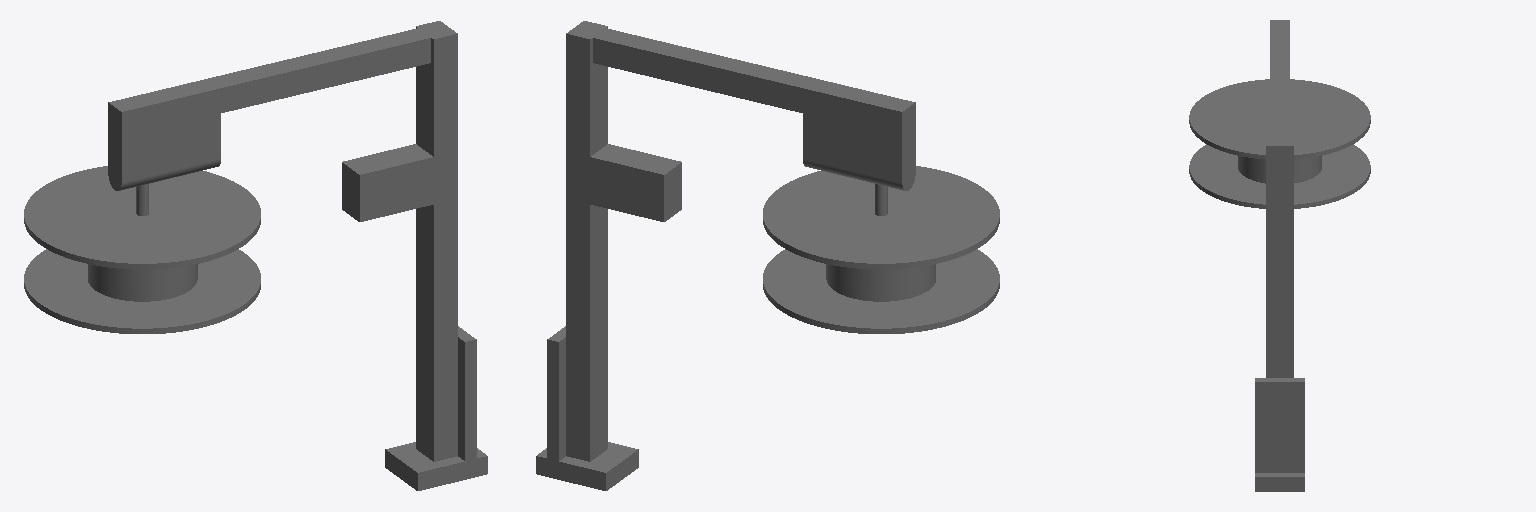
robot.urdf — kr6_r900_workspace:
<?xml version="1.0" ?>
<!-- =================================================================================== -->
<!-- |    This document was autogenerated by xacro from kr6_r900_workspace.xacro       | -->
<!-- |    EDITING THIS FILE BY HAND IS NOT RECOMMENDED                                 | -->
<!-- =================================================================================== -->
<robot name="kr6_r900_workspace" xmlns:xacro="http://wiki.ros.org/xacro">
  <!-- colours based on RAL values given in "FAQ - Colours of robot and robot
       controller", version "KUKA.Tifs | 2010-01-21 |YM| DefaultColorsRobotAndController.doc",
       downloaded 2015-07-18 from
       http://www.kuka.be/main/cservice/faqs/hardware/DefaultColorsRobotAndController.pdf

       all RAL colours converted using http://www.visual-graphics.de/en/customer-care/ral-colours
  -->
  <link name="robot_base_link">
    <visual>
      <origin rpy="0 0 0" xyz="0 0 0"/>
      <geometry>
        <mesh filename="../../kuka_kr6_support/meshes/kr6_agilus/visual/base_link.dae"/>
      </geometry>
      <material name="">
        <color rgba="0.505882352941 0.470588235294 0.388235294118 1.0"/>
      </material>
    </visual>
    <collision>
      <origin rpy="0 0 0" xyz="0 0 0"/>
      <geometry>
        <mesh filename="../../kuka_kr6_support/meshes/kr6_agilus/collision/base_link.stl"/>
      </geometry>
    </collision>
  </link>
  <link name="robot_link_1">
    <visual>
      <origin rpy="0 0 0" xyz="0 0 0"/>
      <geometry>
        <mesh filename="../../kuka_kr6_support/meshes/kr6_agilus/visual/link_1.dae"/>
      </geometry>
      <material name="">
        <color rgba="0.964705882353 0.470588235294 0.156862745098 1.0"/>
      </material>
    </visual>
    <collision>
      <origin rpy="0 0 0" xyz="0 0 0"/>
      <geometry>
        <mesh filename="../../kuka_kr6_support/meshes/kr6_agilus/collision/link_1.stl"/>
      </geometry>
    </collision>
  </link>
  <link name="robot_link_2">
    <visual>
      <origin rpy="0 0 0" xyz="0 0 0"/>
      <geometry>
        <mesh filename="../../kuka_kr6_support/meshes/kr6r900sixx/visual/link_2.dae"/>
      </geometry>
      <material name="">
        <color rgba="0.964705882353 0.470588235294 0.156862745098 1.0"/>
      </material>
    </visual>
    <collision>
      <origin rpy="0 0 0" xyz="0 0 0"/>
      <geometry>
        <mesh filename="../../kuka_kr6_support/meshes/kr6r900sixx/collision/link_2.stl"/>
      </geometry>
    </collision>
  </link>
  <link name="robot_link_3">
    <visual>
      <origin rpy="0 0 0" xyz="0 0 0"/>
      <geometry>
        <mesh filename="../../kuka_kr6_support/meshes/kr6_agilus/visual/link_3.dae"/>
      </geometry>
      <material name="">
        <color rgba="0.964705882353 0.470588235294 0.156862745098 1.0"/>
      </material>
    </visual>
    <collision>
      <origin rpy="0 0 0" xyz="0 0 0"/>
      <geometry>
        <mesh filename="../../kuka_kr6_support/meshes/kr6_agilus/collision/link_3.stl"/>
      </geometry>
    </collision>
  </link>
  <link name="robot_link_4">
    <visual>
      <origin rpy="0 0 0" xyz="0 0 0"/>
      <geometry>
        <mesh filename="../../kuka_kr6_support/meshes/kr6r900sixx/visual/link_4.dae"/>
      </geometry>
      <material name="">
        <color rgba="0.964705882353 0.470588235294 0.156862745098 1.0"/>
      </material>
    </visual>
    <collision>
      <origin rpy="0 0 0" xyz="0 0 0"/>
      <geometry>
        <mesh filename="../../kuka_kr6_support/meshes/kr6r900sixx/collision/link_4.stl"/>
      </geometry>
    </collision>
  </link>
  <link name="robot_link_5">
    <visual>
      <origin rpy="0 0 0" xyz="0 0 0"/>
      <geometry>
        <mesh filename="../../kuka_kr6_support/meshes/kr6_agilus/visual/link_5.dae"/>
      </geometry>
      <material name="">
        <color rgba="0.964705882353 0.470588235294 0.156862745098 1.0"/>
      </material>
    </visual>
    <collision>
      <origin rpy="0 0 0" xyz="0 0 0"/>
      <geometry>
        <mesh filename="../../kuka_kr6_support/meshes/kr6_agilus/collision/link_5.stl"/>
      </geometry>
    </collision>
  </link>
  <link name="robot_link_6">
    <visual>
      <origin rpy="0 0 0" xyz="0 0 0"/>
      <geometry>
        <mesh filename="../../kuka_kr6_support/meshes/kr6_agilus/visual/link_6.dae"/>
      </geometry>
      <material name="">
        <color rgba="0.505882352941 0.470588235294 0.388235294118 1.0"/>
      </material>
    </visual>
    <collision>
      <origin rpy="0 0 0" xyz="0 0 0"/>
      <geometry>
        <mesh filename="../../kuka_kr6_support/meshes/kr6_agilus/collision/link_6.stl"/>
      </geometry>
    </collision>
  </link>
  <!-- This frame corresponds to the $FLANGE coordinate system in KUKA KRC controllers. -->
  <link name="robot_tool0"/>
  <joint name="robot_joint_a1" type="revolute">
    <origin rpy="0 0 0" xyz="0 0 0.400"/>
    <parent link="robot_base_link"/>
    <child link="robot_link_1"/>
    <axis xyz="0 0 -1"/>
    <limit effort="0" lower="-2.96705972839" upper="2.96705972839" velocity="6.28318530718"/>
  </joint>
  <joint name="robot_joint_a2" type="revolute">
    <origin rpy="0 0 0" xyz="0.025 0 0"/>
    <parent link="robot_link_1"/>
    <child link="robot_link_2"/>
    <axis xyz="0 1 0"/>
    <limit effort="0" lower="-3.31612557879" upper="0.785398163397" velocity="5.23598775598"/>
  </joint>
  <joint name="robot_joint_a3" type="revolute">
    <origin rpy="0 0 0" xyz="0.455 0 0"/>
    <parent link="robot_link_2"/>
    <child link="robot_link_3"/>
    <axis xyz="0 1 0"/>
    <limit effort="0" lower="-2.09439510239" upper="2.72271363311" velocity="6.28318530718"/>
  </joint>
  <joint name="robot_joint_a4" type="revolute">
    <origin rpy="0 0 0" xyz="0 0 0.035"/>
    <parent link="robot_link_3"/>
    <child link="robot_link_4"/>
    <axis xyz="-1 0 0"/>
    <limit effort="0" lower="-3.22885911619" upper="3.22885911619" velocity="6.6497044501"/>
  </joint>
  <joint name="robot_joint_a5" type="revolute">
    <origin rpy="0 0 0" xyz="0.420 0 0"/>
    <parent link="robot_link_4"/>
    <child link="robot_link_5"/>
    <axis xyz="0 1 0"/>
    <limit effort="0" lower="-2.09439510239" upper="2.09439510239" velocity="6.77187749774"/>
  </joint>
  <joint name="robot_joint_a6" type="revolute">
    <origin rpy="0 0 0" xyz="0.080 0 0"/>
    <parent link="robot_link_5"/>
    <child link="robot_link_6"/>
    <axis xyz="-1 0 0"/>
    <limit effort="0" lower="-6.10865238198" upper="6.10865238198" velocity="10.7337748998"/>
  </joint>
  <joint name="robot_joint_a6-tool0" type="fixed">
    <parent link="robot_link_6"/>
    <child link="robot_tool0"/>
    <origin rpy="0 1.57079632679 0" xyz="0 0 0"/>
  </joint>
  <!-- ROS base_link to KUKA $ROBROOT coordinate system transform -->
  <link name="robot_base"/>
  <joint name="robot_base_link-base" type="fixed">
    <origin rpy="0 0 0" xyz="0 0 0"/>
    <parent link="robot_base_link"/>
    <child link="robot_base"/>
  </joint>
  <!-- link list -->
  <link name="eef_base_link">
    <visual>
      <origin rpy="0 0 0" xyz="8.8e-05 0.000769 -0.002121"/>
      <geometry>
        <mesh filename="../../asw_end_effector/meshes/visual/asw_hotend_end_effector.stl" scale=".001 .001 .001"/>
      </geometry>
      <material name="grey">
        <color rgba="0.5 0.5 0.5 1.0"/>
      </material>
    </visual>
    <collision>
      <origin rpy="0 0 0" xyz="8.8e-05 0.000769 -0.002121"/>
      <geometry>
        <mesh filename="../../asw_end_effector/meshes/collision/asw_hotend_end_effector_shrinked_tip-4mm.stl" scale=".001 .001 .001"/>
      </geometry>
      <material name="red">
        <color rgba="1 0 0 1"/>
      </material>
    </collision>
  </link>
  <link name="eef_tcp_frame"/>
  <!-- end of link list -->
  <!-- joint list -->
  <joint name="eef_base_to_tcp" type="fixed">
    <origin rpy="0.0 1.57079632679 0.0" xyz="0.150539 0.001052 0.119157"/>
    <parent link="eef_base_link"/>
    <child link="eef_tcp_frame"/>
  </joint>
  <!-- end of joint list -->
  <!-- material_feeder_mount_point is Base Link, inherit from host robot -->
  <link name="material_feeder_mount_point"/>
  <link name="material_feeder_material_feeder">
    <visual>
      <geometry>
        <mesh filename="../../asw_material_feeder/meshes/visual/asw_material_feeder_visual_model.stl" scale=".001 .001 .001"/>
      </geometry>
      <material name="grey">
        <color rgba="0.5 0.5 0.5 1.0"/>
      </material>
    </visual>
    <collision>
      <geometry>
        <mesh filename="../../asw_material_feeder/meshes/collision/asw_material_feeder_collision_model.stl" scale=".001 .001 .001"/>
      </geometry>
      <material name="red">
        <color rgba="1 0 0 1"/>
      </material>
    </collision>
  </link>
  <joint name="mount_point_to_material_feeder" type="fixed">
    <parent link="material_feeder_mount_point"/>
    <child link="material_feeder_material_feeder"/>
    <origin rpy="0 0 0" xyz="0 0 0"/>
  </joint>
  <link name="workspace_base_link"/>
  <link name="workspace_objects">
    <visual>
      <geometry>
        <mesh filename="../../framefab_kr6_r900_support/meshes/visual/MIT_3-412_workspace_full.stl"/>
      </geometry>
      <material name="grey">
        <color rgba="0.5 0.5 0.5 1.0"/>
      </material>
    </visual>
    <collision>
      <geometry>
        <mesh filename="../../framefab_kr6_r900_support/meshes/collision/MIT_3-412_workspace_simplified.stl"/>
      </geometry>
    </collision>
  </link>
  <joint name="workspace_baselink_to_objects" type="fixed">
    <parent link="workspace_base_link"/>
    <child link="workspace_objects"/>
    <origin rpy="0 0 0" xyz="0 0 0"/>
  </joint>
  <link name="base_link"/>
  <!-- Attach the end effector to the end of the robot arm (tool0) -->
  <joint name="ee_to_robot" type="fixed">
    <parent link="robot_tool0"/>
    <child link="eef_base_link"/>
    <origin rpy="0 0 0" xyz="0 0 0"/>
  </joint>
  <!-- Attach the material feeder to the link4 mount point of the robot arm -->
  <joint name="link_3_to_link_3_mount_point" type="fixed">
    <parent link="robot_link_3"/>
    <child link="material_feeder_mount_point"/>
    <origin rpy="0 0 0" xyz="0.06762 0.0 0.0925"/>
  </joint>
  <!-- start of arm-workcell joint definitions -->
  <joint name="world_to_base" type="fixed">
    <parent link="base_link"/>
    <child link="robot_base_link"/>
    <origin rpy="0 0 0" xyz="0 0 0"/>
  </joint>
  <joint name="world_to_workspace" type="fixed">
    <parent link="base_link"/>
    <child link="workspace_base_link"/>
    <origin rpy="0 0 0" xyz="0 0 0"/>
  </joint>
</robot>

--- Render facts (derived) ---
The picture shows the robot from 3 angles, left to right: view 1: azimuth 30°, elevation 25°; view 2: azimuth 150°, elevation 25°; view 3: azimuth 270°, elevation 25°; orthographic projection.
Model kr6_r900_workspace with 16 links and 15 joints (6 revolute, 9 fixed), rooted at base_link, posed every joint at zero.
Links seen in each view (by area): view 1: material_feeder_material_feeder; view 2: material_feeder_material_feeder; view 3: material_feeder_material_feeder.
Boxes of the visible links, left/top/right/bottom form: material_feeder_material_feeder: left=24, top=21, right=487, bottom=490; material_feeder_material_feeder: left=536, top=21, right=999, bottom=490; material_feeder_material_feeder: left=1189, top=20, right=1370, bottom=491.
Bounding box of the posed robot: 0.3904 × 0.1858 × 0.3821 m (x, y, z).
Meshes: 10 distinct files referenced, 1 mesh visuals loaded (1 binary STL); not drawn: 9 (reference not matched to a file when rendering).